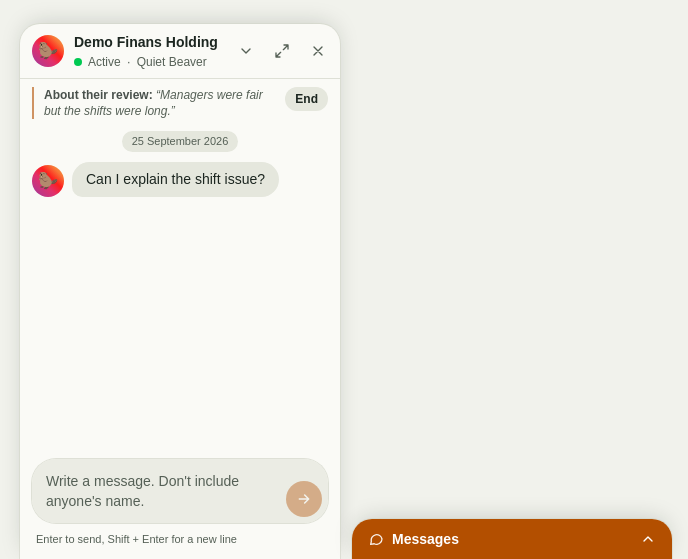
Test: ChatDock › ends the conversation only after confirming
Click the button with aria-label "End conversation": (307, 99) [285,87,328,111]
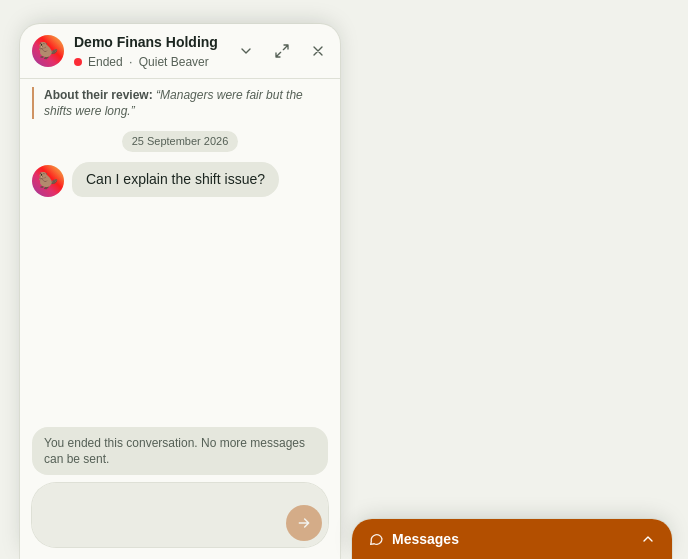
Now the text "You ended this conversation. No more messages can be sent." is shown, box [32,427,328,475]
